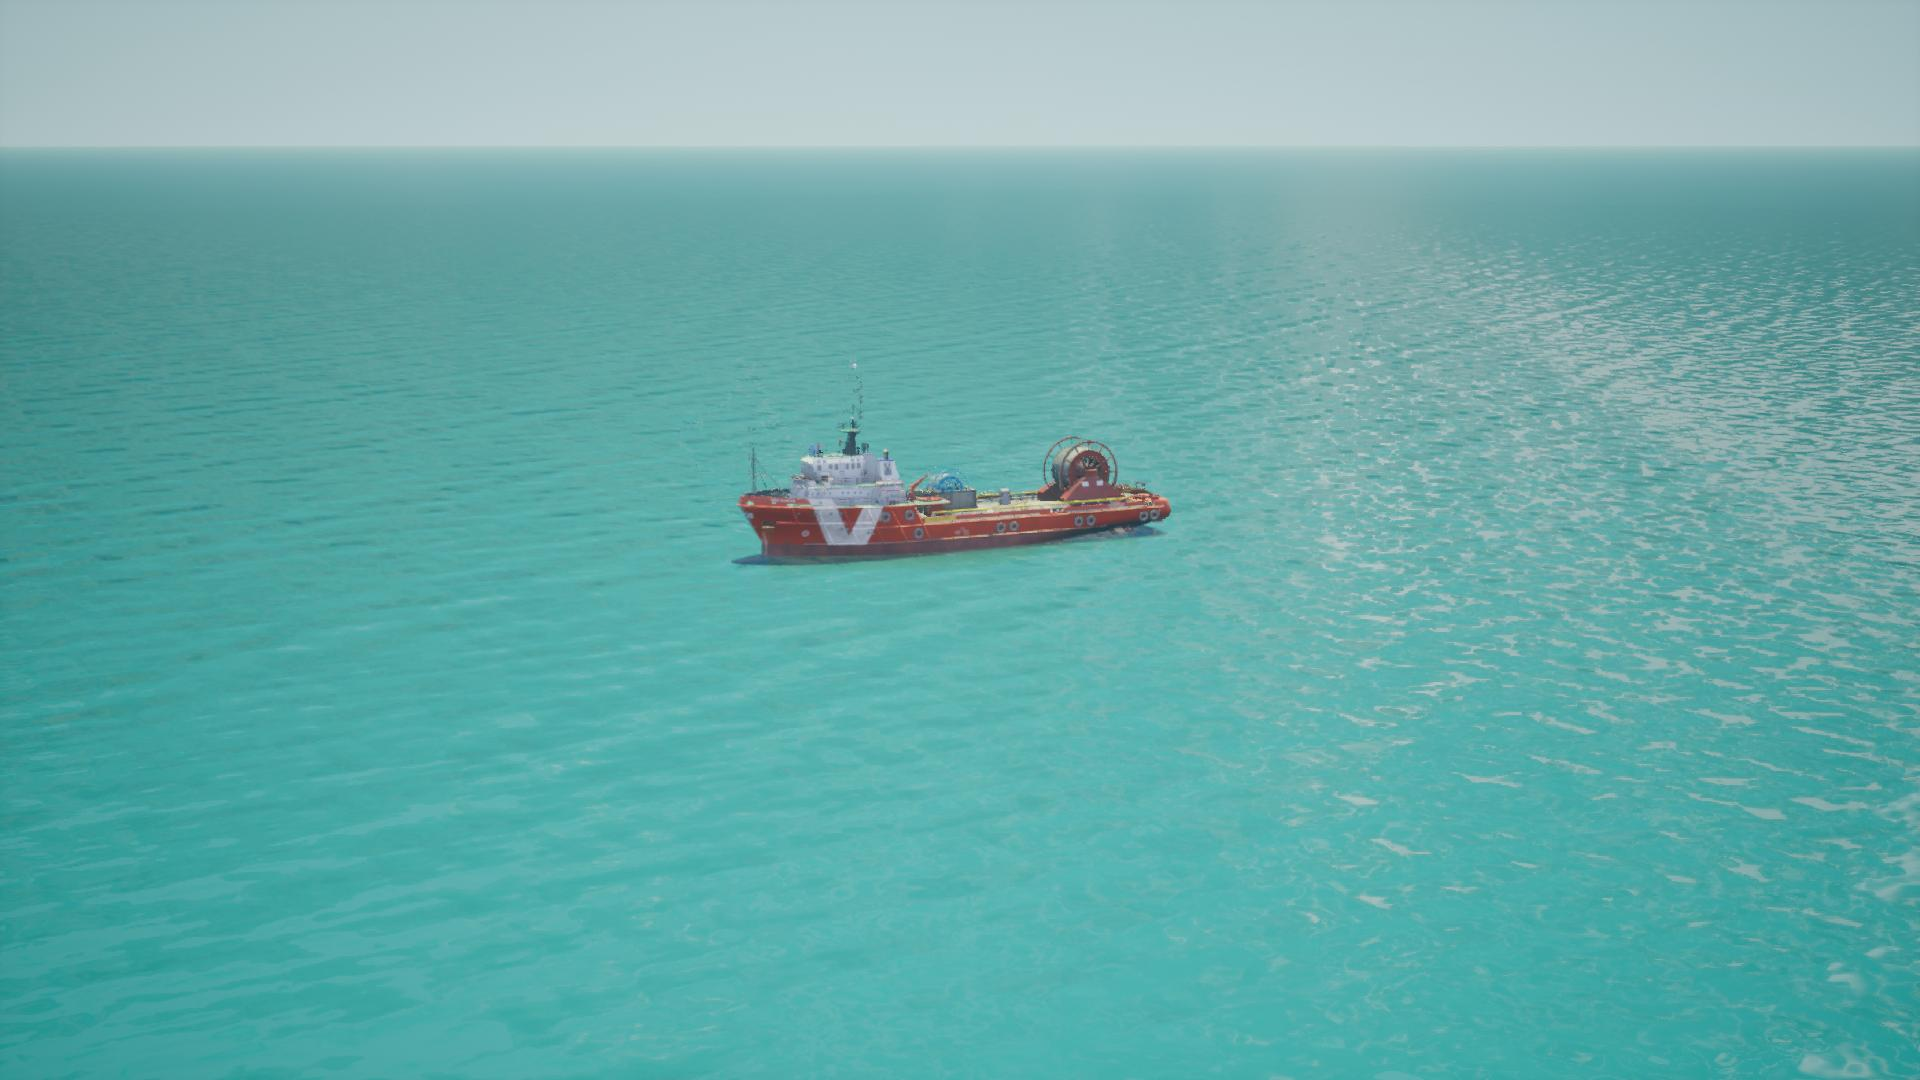Tug Boat: (735, 421, 1164, 568)
